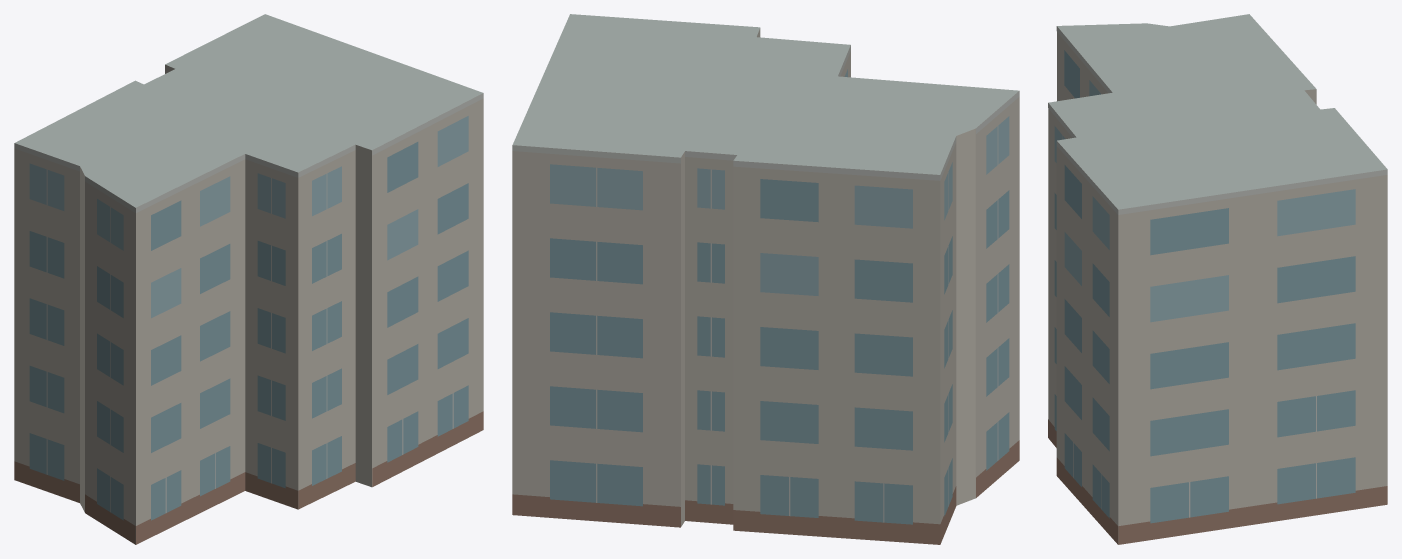
The model's file is survey-upis-32516736.glb.
The picture shows the model from 3 angles, left to right: view 1: azimuth 30°, elevation 25°; view 2: azimuth 150°, elevation 25°; view 3: azimuth 270°, elevation 25°; orthographic projection. The views are drawn at different scales.
Visible parts, largest first — view 1: survey-upis-32516736.tmp; view 2: survey-upis-32516736.tmp; view 3: survey-upis-32516736.tmp.
Boxes of the visible parts, x1,y1,x2,y2 form: survey-upis-32516736.tmp: [14, 14, 483, 544]; survey-upis-32516736.tmp: [512, 14, 1019, 544]; survey-upis-32516736.tmp: [1048, 14, 1387, 544].
Bounding box in the file's own units: 19.1 × 15.25 × 14.01.
